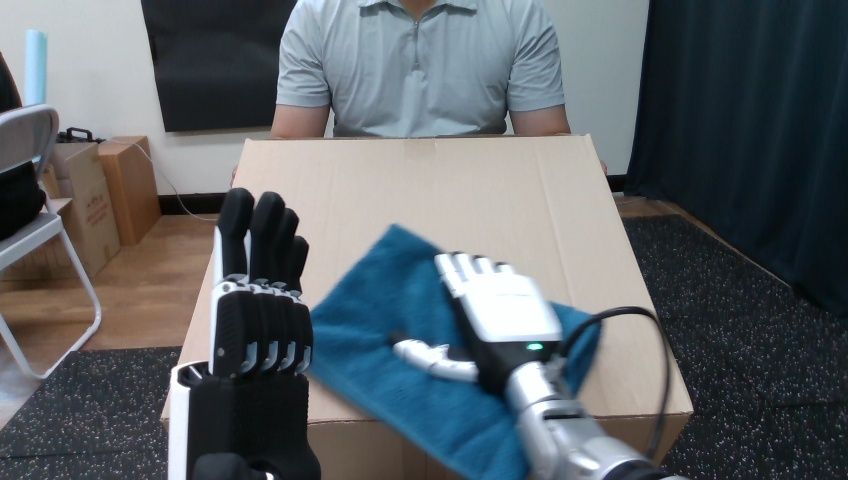left robot hand: (391, 253, 676, 479), (168, 188, 320, 478), (561, 313, 665, 456)
